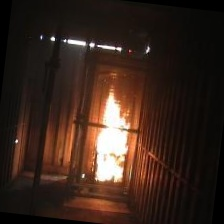fire: (89, 72, 140, 186)
